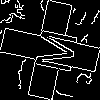M: (25, 25, 79, 75)
